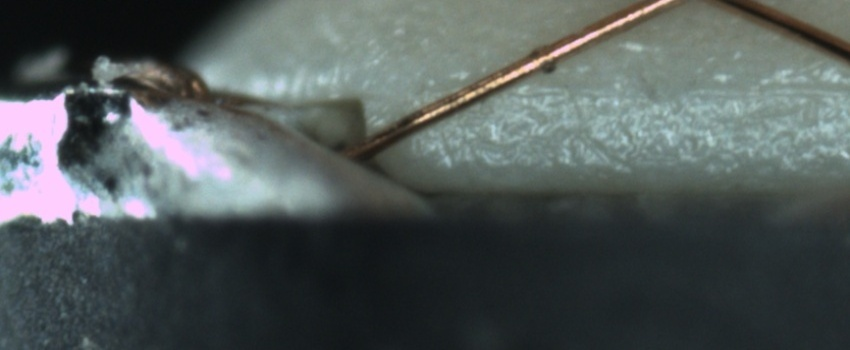DL: (500, 57, 849, 118)
TE: (113, 57, 206, 101)
